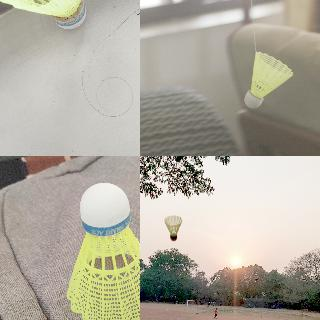shuttlecock: (66, 179, 139, 319), (0, 0, 98, 31), (244, 52, 292, 108), (164, 216, 182, 240)
